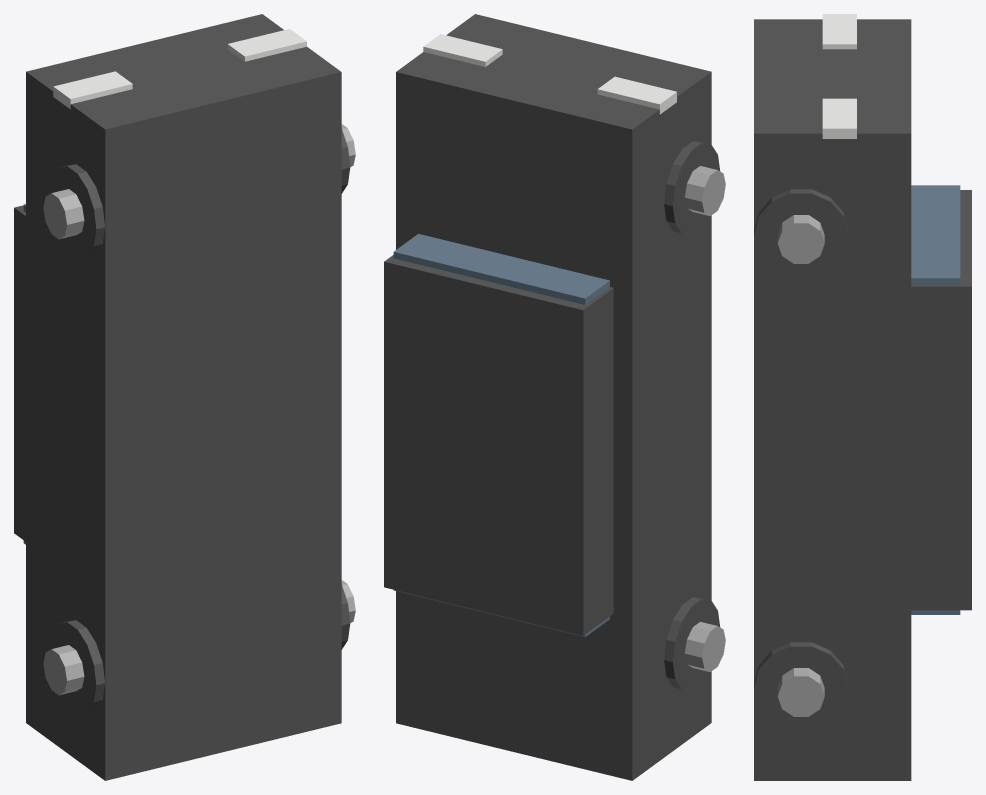
The model's file is full_sedan.glb.
3 views of the same model, side by side, from view 1: azimuth 30°, elevation 25°; view 2: azimuth 150°, elevation 25°; view 3: azimuth 270°, elevation 25° (orthographic).
Parts seen in each view (by area): view 1: body, cabin, wheel_-1_1, wheel_-1_-1, hub_-1_1, hub_-1_-1, headlamp_l, headlamp_r; view 2: body, cabin, glass_f, wheel_-1_1, wheel_-1_-1, hub_-1_1, hub_-1_-1, headlamp_l, headlamp_r; view 3: body, cabin, glass_f, wheel_1_-1, wheel_1_1, hub_1_1, hub_1_-1, headlamp_r, headlamp_l.
Boxes of the visible parts, bbox=[...] form: body: bbox=[26, 14, 341, 780]; cabin: bbox=[14, 205, 25, 541]; wheel_-1_1: bbox=[49, 164, 104, 257]; wheel_-1_-1: bbox=[49, 620, 104, 713]; hub_-1_1: bbox=[43, 189, 84, 239]; hub_-1_-1: bbox=[43, 645, 84, 695]; headlamp_l: bbox=[53, 71, 132, 109]; headlamp_r: bbox=[227, 29, 306, 61]; body: bbox=[396, 14, 711, 780]; cabin: bbox=[384, 255, 613, 635]; glass_f: bbox=[393, 234, 609, 304]; wheel_-1_1: bbox=[664, 141, 720, 234]; wheel_-1_-1: bbox=[664, 597, 720, 690]; hub_-1_1: bbox=[684, 166, 725, 216]; hub_-1_-1: bbox=[684, 622, 725, 672]; headlamp_l: bbox=[597, 76, 676, 114]; headlamp_r: bbox=[423, 34, 502, 66]; body: bbox=[754, 19, 911, 780]; cabin: bbox=[911, 190, 971, 610]; glass_f: bbox=[911, 185, 960, 284]; wheel_1_-1: bbox=[754, 642, 848, 729]; wheel_1_1: bbox=[754, 189, 848, 276]; hub_1_1: bbox=[777, 215, 824, 263]; hub_1_-1: bbox=[777, 668, 824, 716]; headlamp_r: bbox=[822, 98, 856, 138]; headlamp_l: bbox=[822, 14, 856, 49].
Size of the model in its own units: 2.32 by 5.08 by 1.53.
